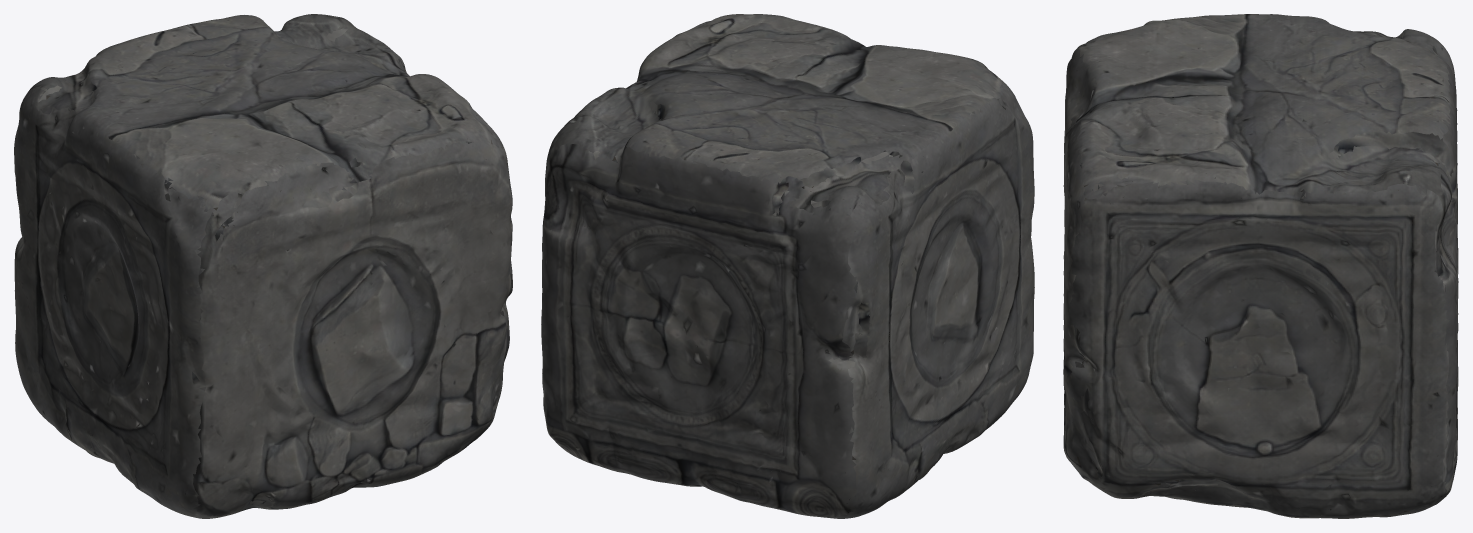
Rendered from Push_Boulder.glb.
3 views of the same model, side by side, from view 1: azimuth 30°, elevation 25°; view 2: azimuth 150°, elevation 25°; view 3: azimuth 270°, elevation 25° (orthographic). The views are drawn at different scales.
Visible parts, largest first — view 1: Mesh_0; view 2: Mesh_0; view 3: Mesh_0.
Boxes of the visible parts, <box> form: Mesh_0: <box>14,14,512,518</box>; Mesh_0: <box>541,14,1034,518</box>; Mesh_0: <box>1063,14,1458,518</box>.
Size of the model in its own units: 2 by 2 by 2.
Materials: 1 (1 with a texture image).
